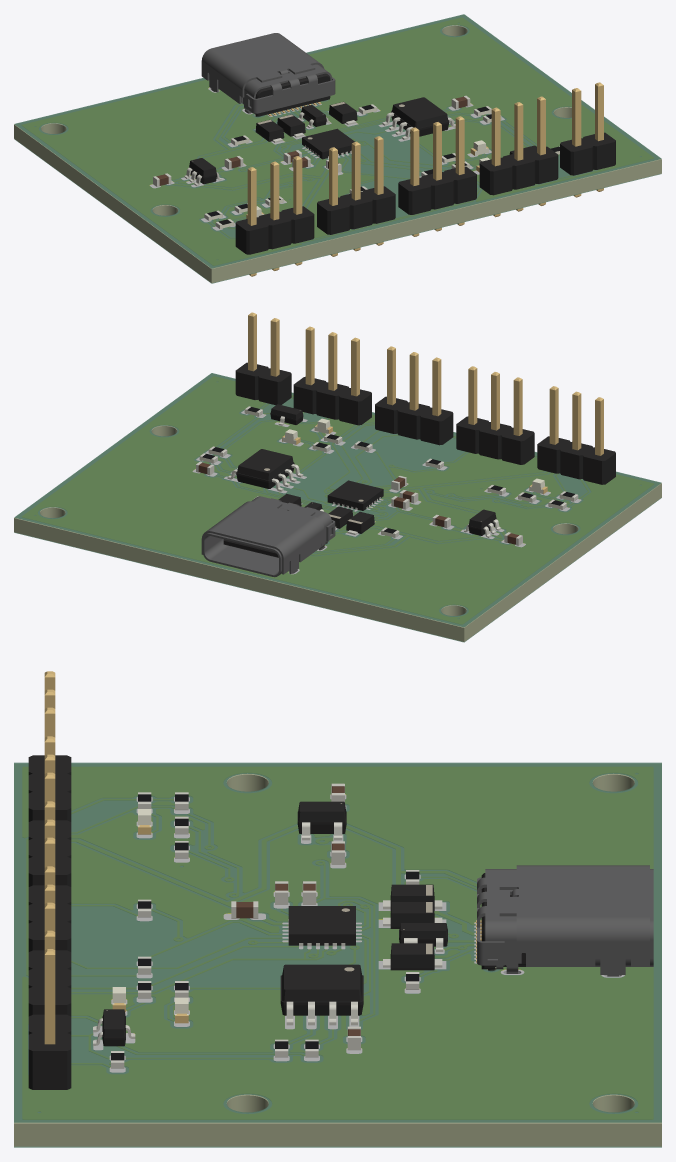
The model's file is usb-uart.glb.
3 renders of one model, top to bottom at view 1: azimuth 30°, elevation 25°; view 2: azimuth 150°, elevation 25°; view 3: azimuth 270°, elevation 25°, orthographic. The views are drawn at different scales.
Parts seen in each view (by area): view 1: =>[0:1:1:37], =>[0:1:1:34], =>[0:1:1:5] (×4), =>[0:1:1:39], =>[0:1:1:25], =>[0:1:1:33], =>[0:1:1:23], =>[0:1:1:13] (×3), =>[0:1:1:35], =>[0:1:1:7], =>[0:1:1:38], =>[0:1:1:31] (+1 smaller); view 2: =>[0:1:1:37], =>[0:1:1:34], =>[0:1:1:39], =>[0:1:1:5] (×4), =>[0:1:1:25], =>[0:1:1:33], =>[0:1:1:23], =>[0:1:1:35], =>[0:1:1:7], =>[0:1:1:38], =>[0:1:1:31], =>[0:1:1:29] (+1 smaller); view 3: =>[0:1:1:37], =>[0:1:1:34], =>[0:1:1:39], =>[0:1:1:25], =>[0:1:1:5] (×4), =>[0:1:1:23], =>[0:1:1:33], =>[0:1:1:13] (×3), =>[0:1:1:35], =>[0:1:1:7], =>[0:1:1:31], =>[0:1:1:38] (+2 smaller).
Boxes of the visible parts, bbox=[...] form: =>[0:1:1:37]: bbox=[14, 14, 661, 268]; =>[0:1:1:34]: bbox=[22, 18, 653, 265]; =>[0:1:1:5] (×4): bbox=[235, 96, 558, 276]; =>[0:1:1:39]: bbox=[14, 15, 661, 283]; =>[0:1:1:25]: bbox=[201, 33, 335, 116]; =>[0:1:1:33]: bbox=[560, 82, 615, 197]; =>[0:1:1:23]: bbox=[382, 97, 455, 140]; =>[0:1:1:13] (×3): bbox=[255, 101, 357, 142]; =>[0:1:1:35]: bbox=[149, 87, 504, 230]; =>[0:1:1:7]: bbox=[302, 128, 354, 159]; =>[0:1:1:38]: bbox=[14, 139, 661, 283]; =>[0:1:1:31]: bbox=[184, 158, 221, 186]; =>[0:1:1:37]: bbox=[14, 373, 661, 627]; =>[0:1:1:34]: bbox=[22, 377, 653, 623]; =>[0:1:1:39]: bbox=[14, 374, 661, 641]; =>[0:1:1:5] (×4): bbox=[293, 326, 615, 484]; =>[0:1:1:25]: bbox=[201, 496, 335, 577]; =>[0:1:1:33]: bbox=[235, 312, 291, 405]; =>[0:1:1:23]: bbox=[227, 449, 303, 491]; =>[0:1:1:35]: bbox=[192, 410, 581, 574]; =>[0:1:1:7]: bbox=[327, 480, 383, 510]; =>[0:1:1:38]: bbox=[14, 497, 661, 642]; =>[0:1:1:31]: bbox=[464, 509, 501, 537]; =>[0:1:1:29]: bbox=[270, 404, 303, 425]; =>[0:1:1:37]: bbox=[14, 762, 661, 1122]; =>[0:1:1:34]: bbox=[23, 767, 652, 1119]; =>[0:1:1:39]: bbox=[14, 764, 661, 1146]; =>[0:1:1:25]: bbox=[476, 865, 653, 976]; =>[0:1:1:5] (×4): bbox=[28, 671, 71, 1016]; =>[0:1:1:23]: bbox=[280, 964, 363, 1025]; =>[0:1:1:33]: bbox=[28, 930, 71, 1089]; =>[0:1:1:13] (×3): bbox=[383, 884, 442, 970]; =>[0:1:1:35]: bbox=[93, 794, 624, 1072]; =>[0:1:1:7]: bbox=[288, 906, 355, 946]; =>[0:1:1:31]: bbox=[297, 801, 346, 840]; =>[0:1:1:38]: bbox=[14, 1146, 661, 1147].
Bounding box in the file's own units: 0.0504 × 0.0115 × 0.0383.
